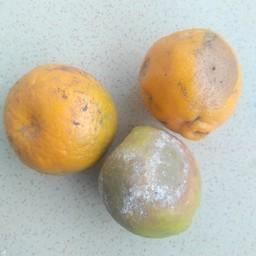Bad_orange: (0, 63, 121, 176), (132, 25, 245, 140), (100, 126, 203, 238)
